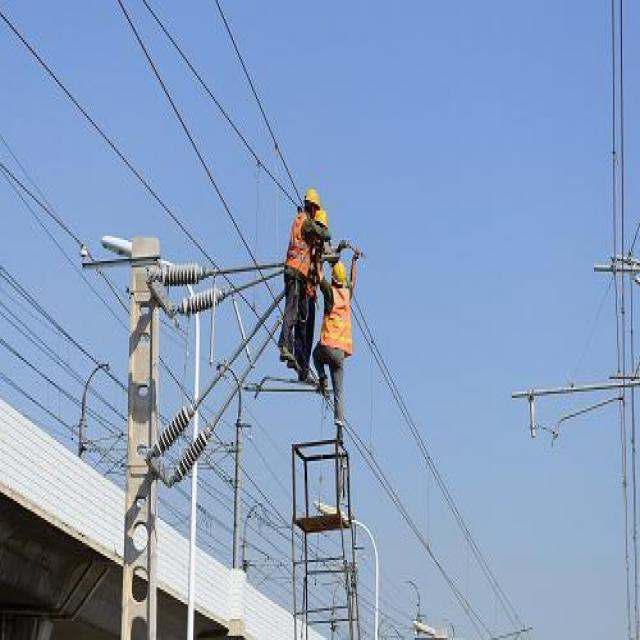hard-hat: (330, 262, 346, 285), (304, 188, 320, 207), (314, 209, 329, 227)
person: (279, 187, 329, 365), (312, 249, 359, 426)
vest: (317, 277, 355, 355), (278, 207, 318, 279)
